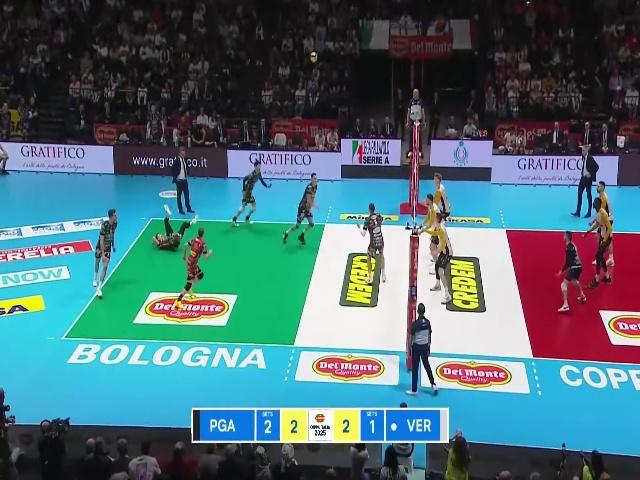volleyball court: (63, 214, 640, 363)
